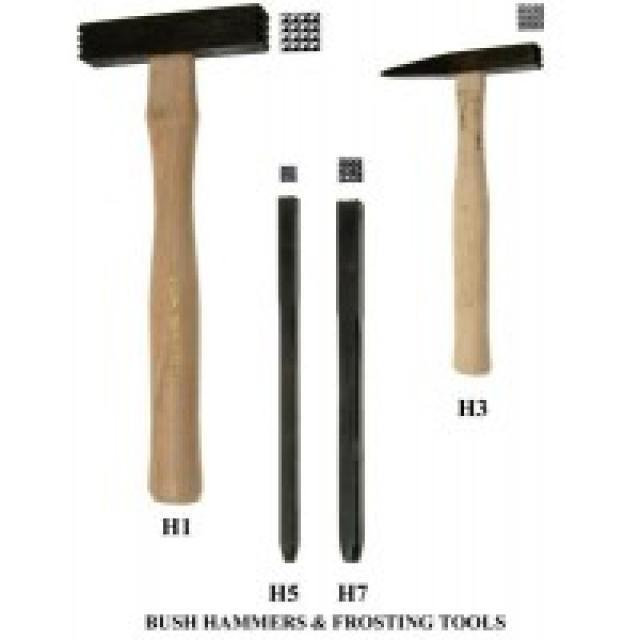hammer: (67, 0, 275, 509), (366, 30, 554, 397)
